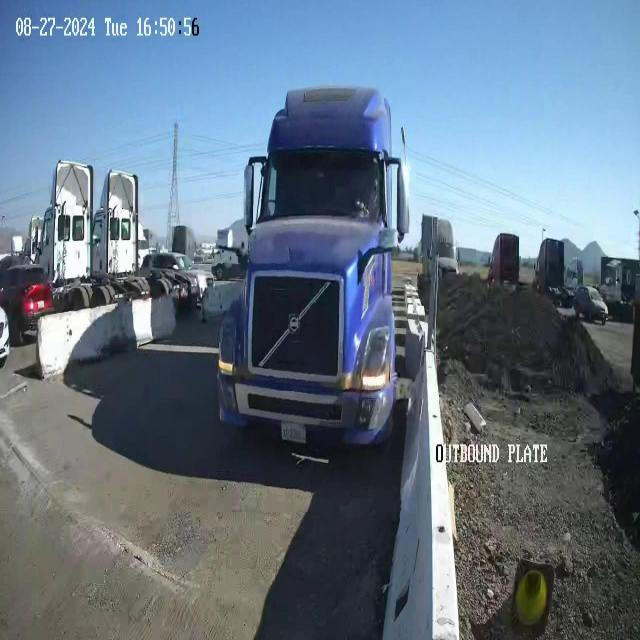TRUCK_OUT: (215, 84, 412, 454)
